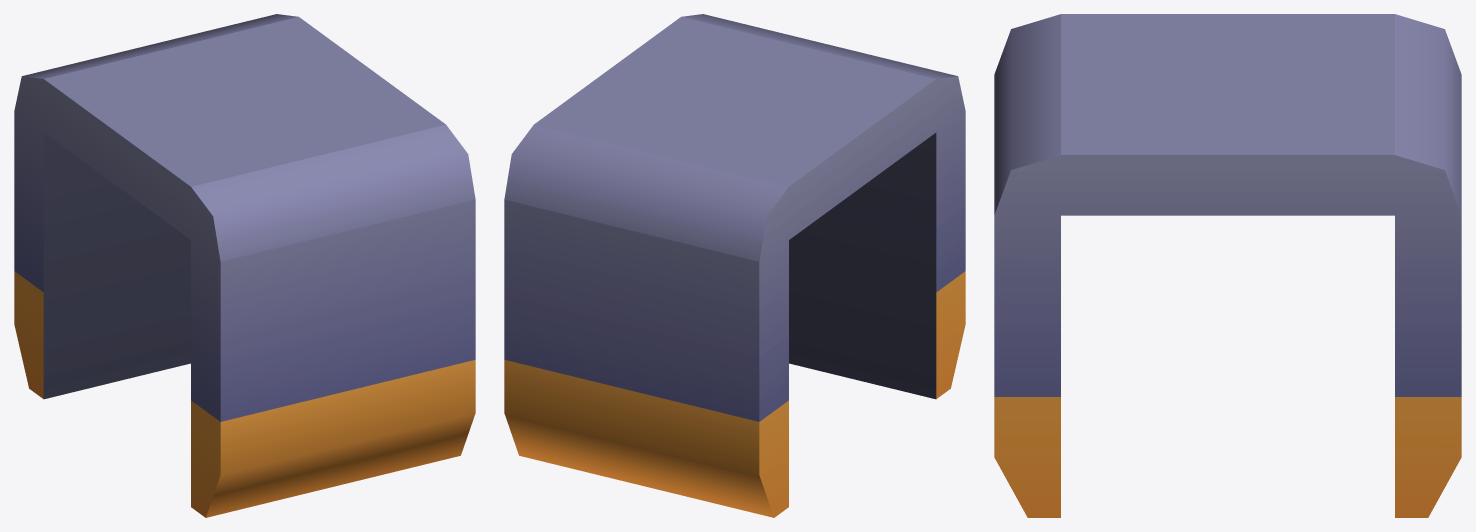
File: kenney-conveyor-cover-stripe.glb
3 renders of one model, left to right at view 1: azimuth 30°, elevation 25°; view 2: azimuth 150°, elevation 25°; view 3: azimuth 270°, elevation 25°, orthographic. The views are drawn at different scales.
Parts seen in each view (by area): view 1: cover-stripe; view 2: cover-stripe; view 3: cover-stripe.
Part boxes in pixels (left/top/right/bottom): cover-stripe: left=14, top=14, right=475, bottom=517; cover-stripe: left=504, top=14, right=965, bottom=517; cover-stripe: left=994, top=14, right=1461, bottom=517.
Bounding box in the file's own units: 1 × 1.2 × 1.4.
Materials: 1 (1 with a texture image).
